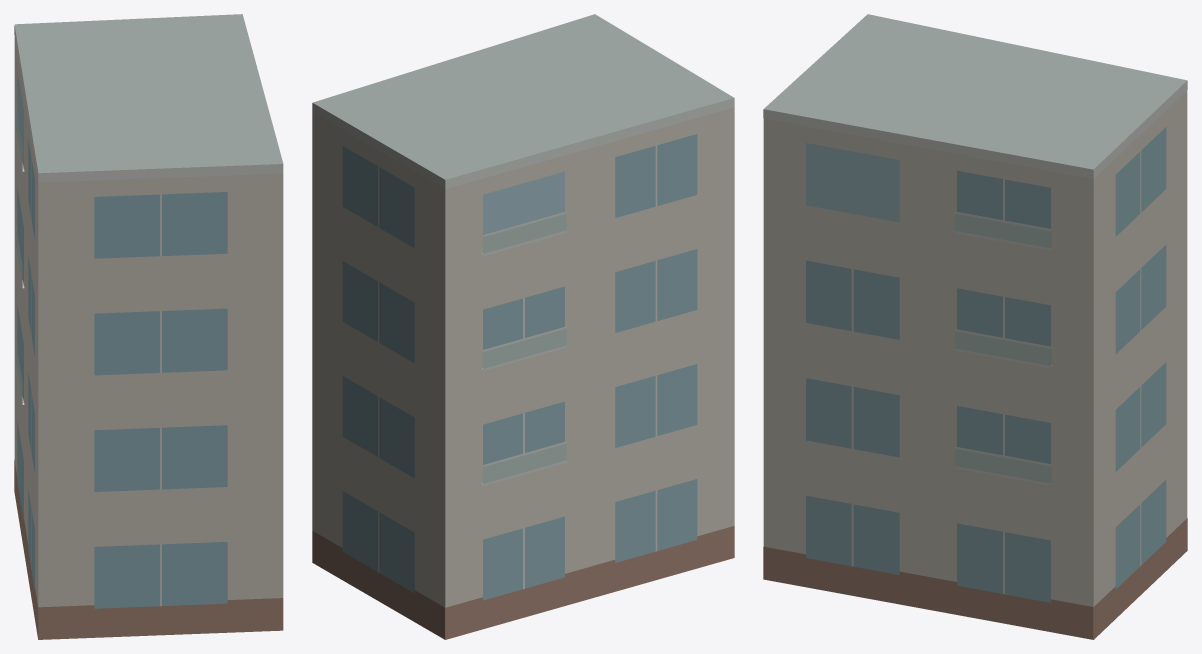
File: survey-upis-32725448.glb
3 renders of one model, left to right at view 1: azimuth 30°, elevation 25°; view 2: azimuth 150°, elevation 25°; view 3: azimuth 270°, elevation 25°, orthographic. The views are drawn at different scales.
Parts seen in each view (by area): view 1: survey-upis-32725448.tmp; view 2: survey-upis-32725448.tmp; view 3: survey-upis-32725448.tmp.
Part boxes in pixels (bbox=[...]): survey-upis-32725448.tmp: bbox=[14, 14, 283, 639]; survey-upis-32725448.tmp: bbox=[312, 14, 734, 639]; survey-upis-32725448.tmp: bbox=[763, 14, 1187, 639].
Bounding box in the file's own units: 8.59 × 12.1 × 9.9.
